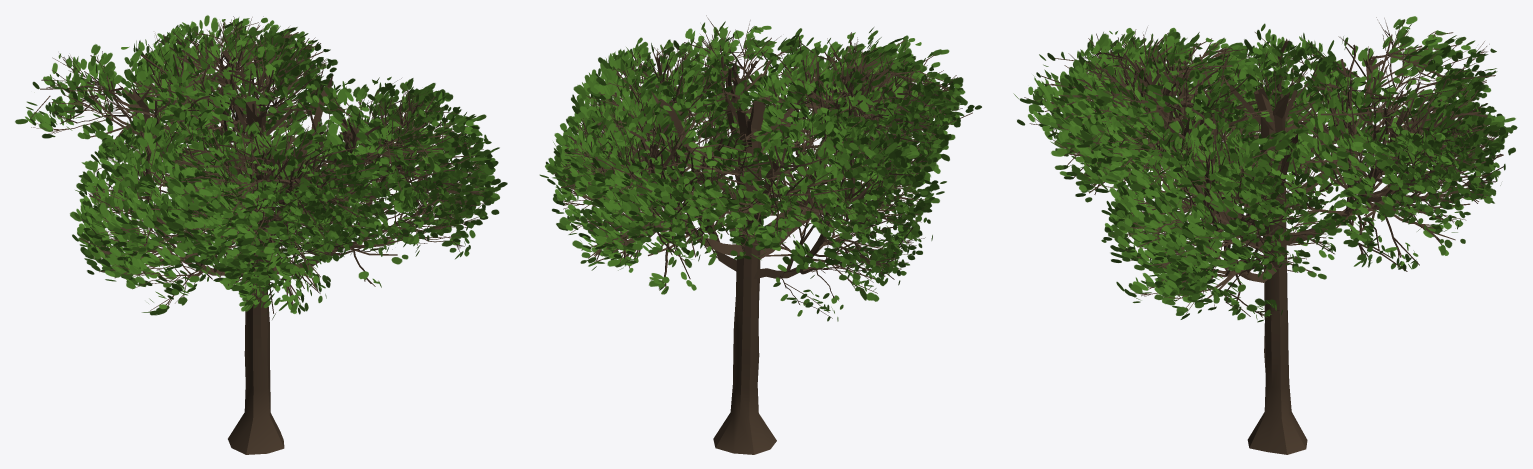
3 views of the same model, side by side, from view 1: azimuth 30°, elevation 25°; view 2: azimuth 150°, elevation 25°; view 3: azimuth 270°, elevation 25° (orthographic). The views are drawn at different scales.
Visible parts, largest first — view 1: oak 01.001_trunk_Mat.001_0.068; view 2: oak 01.001_trunk_Mat.001_0.068; view 3: oak 01.001_trunk_Mat.001_0.068.
Part boxes in pixels (box(x1,y1,x2,y2)): oak 01.001_trunk_Mat.001_0.068: box(15, 15, 507, 454); oak 01.001_trunk_Mat.001_0.068: box(539, 15, 981, 454); oak 01.001_trunk_Mat.001_0.068: box(1013, 16, 1517, 454).
Bounding box in the file's own units: 4.18 × 3.67 × 4.55.
Materials: 2 (1 with a texture image).
